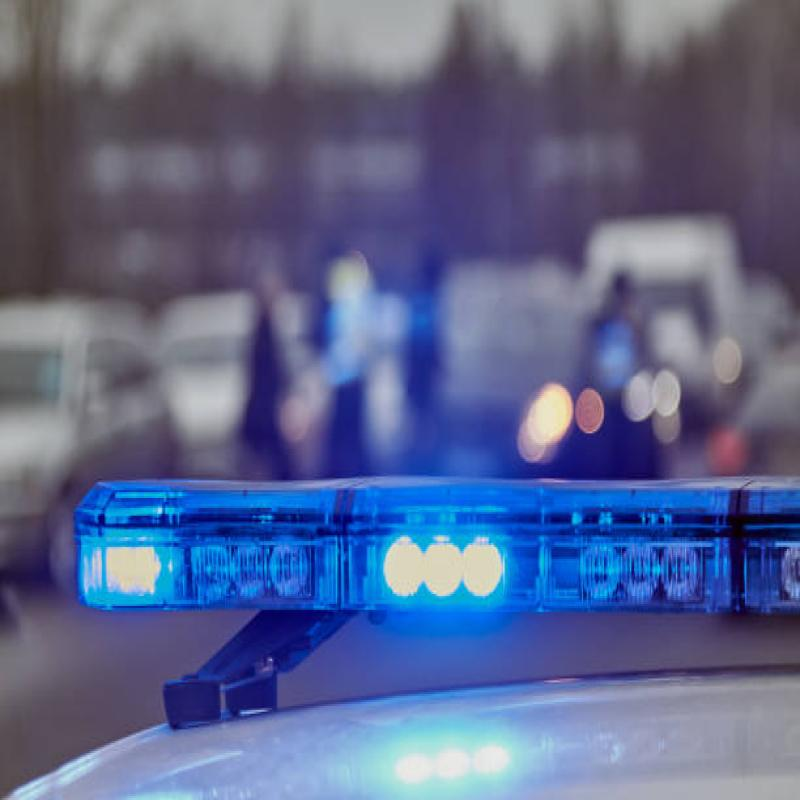AmbulanceSiren: (18, 376, 800, 681)
